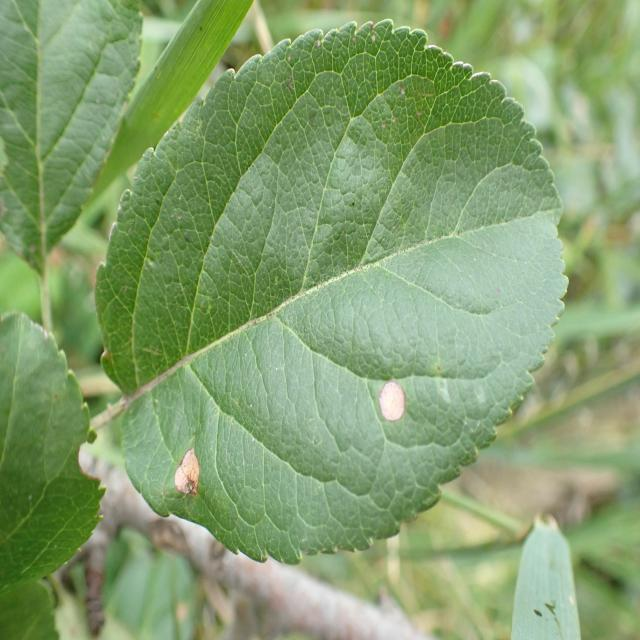Black Rot: (359, 350, 414, 438), (170, 439, 202, 506)
